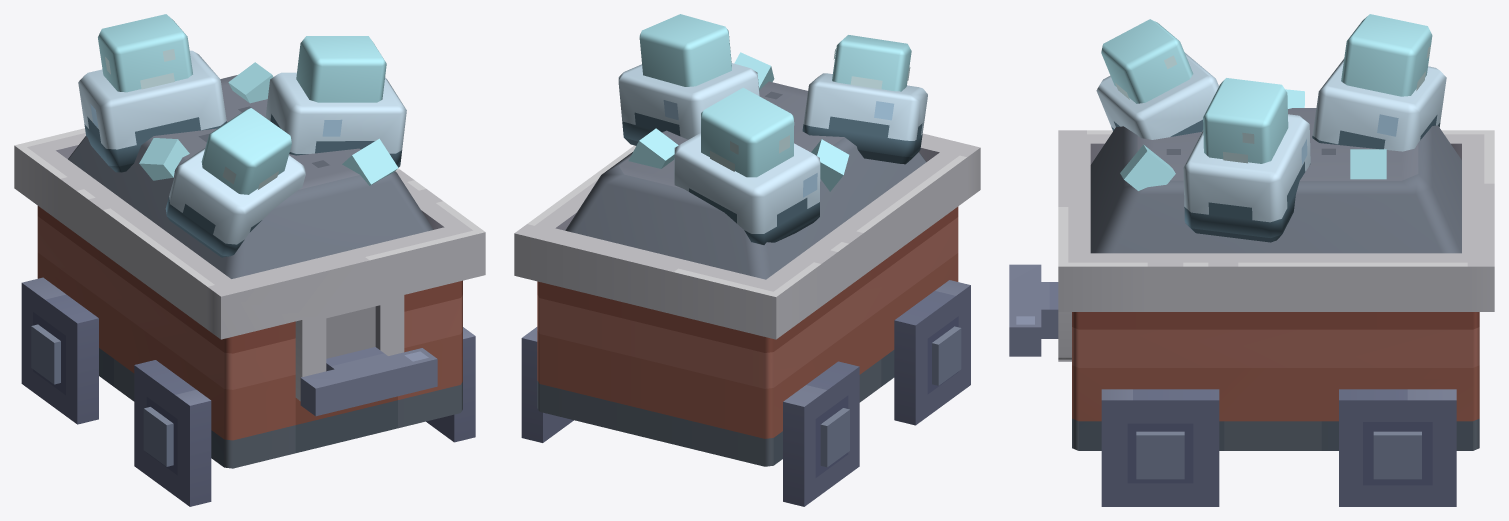
File: gdMinecartBronze.obj
3 renders of one model, left to right at view 1: azimuth 30°, elevation 25°; view 2: azimuth 150°, elevation 25°; view 3: azimuth 270°, elevation 25°, orthographic. The views are drawn at different scales.
Parts seen in each view (by area): view 1: gdMinecartBronze, gdMinecartBronze_Ore; view 2: gdMinecartBronze, gdMinecartBronze_Ore; view 3: gdMinecartBronze, gdMinecartBronze_Ore.
Part boxes in pixels (box(x1,y1,x2,y2)): gdMinecartBronze: box(14, 128, 485, 506); gdMinecartBronze_Ore: box(68, 14, 433, 278); gdMinecartBronze: box(514, 133, 980, 506); gdMinecartBronze_Ore: box(565, 14, 927, 279); gdMinecartBronze: box(1009, 130, 1494, 506); gdMinecartBronze_Ore: box(1090, 14, 1461, 253).
Size of the model in its own units: 3.72 by 4.28 by 4.94.
